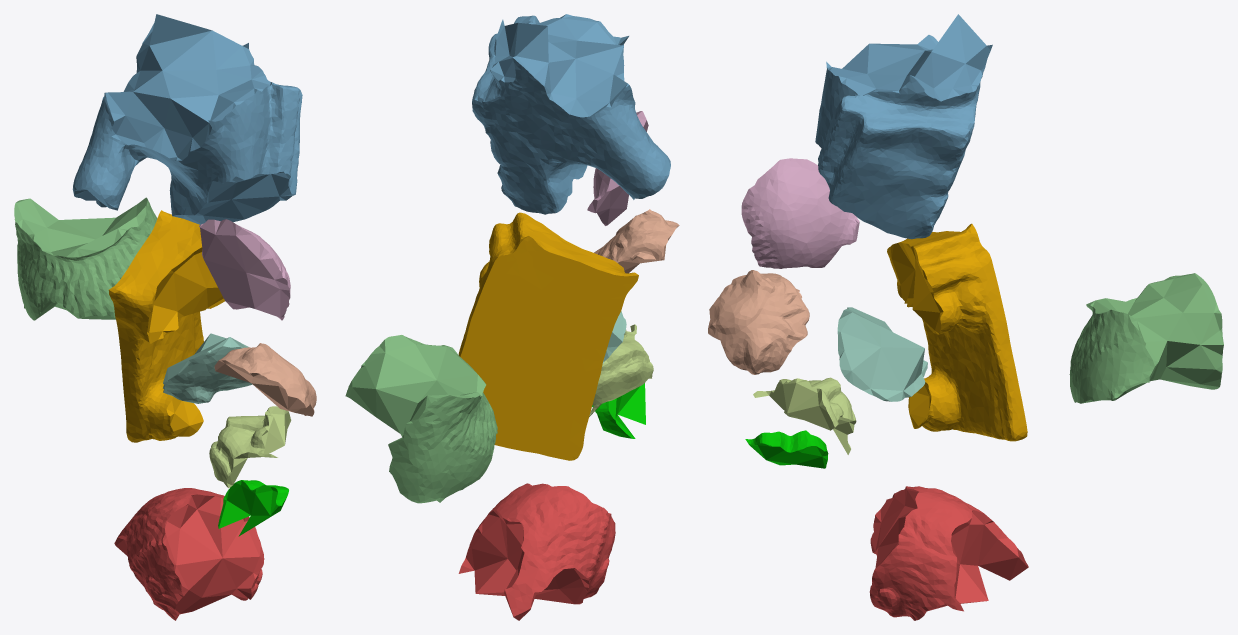
Rendered from mode_16_10pcs_transformed.glb.
3 views of the same model, side by side, from view 1: azimuth 30°, elevation 25°; view 2: azimuth 150°, elevation 25°; view 3: azimuth 270°, elevation 25° (orthographic).
Parts seen in each view (by area): view 1: piece_2.obj, piece_0.obj, piece_1.obj, piece_3.obj, piece_6.obj, piece_7.obj, piece_5.obj, piece_4.obj, piece_8.obj; view 2: piece_0.obj, piece_2.obj, piece_3.obj, piece_1.obj, piece_7.obj, piece_5.obj, piece_8.obj, piece_6.obj, piece_4.obj; view 3: piece_2.obj, piece_0.obj, piece_3.obj, piece_1.obj, piece_6.obj, piece_7.obj, piece_4.obj, piece_5.obj, piece_8.obj.
Part boxes in pixels (<box>): piece_2.obj: <box>72,14,302,224</box>; piece_0.obj: <box>108,210,224,442</box>; piece_1.obj: <box>114,488,264,620</box>; piece_3.obj: <box>14,197,157,320</box>; piece_6.obj: <box>199,219,290,320</box>; piece_7.obj: <box>214,343,316,416</box>; piece_5.obj: <box>209,406,291,488</box>; piece_4.obj: <box>163,333,252,403</box>; piece_8.obj: <box>218,480,288,536</box>; piece_0.obj: <box>458,212,638,460</box>; piece_2.obj: <box>472,14,670,214</box>; piece_3.obj: <box>345,335,497,503</box>; piece_1.obj: <box>458,483,615,620</box>; piece_7.obj: <box>594,209,679,273</box>; piece_5.obj: <box>589,324,653,416</box>; piece_8.obj: <box>592,383,645,438</box>; piece_6.obj: <box>587,111,648,225</box>; piece_4.obj: <box>602,311,626,363</box>; piece_2.obj: <box>815,14,992,239</box>; piece_0.obj: <box>887,223,1027,441</box>; piece_3.obj: <box>1069,273,1223,403</box>; piece_1.obj: <box>869,486,1028,620</box>; piece_6.obj: <box>741,158,859,268</box>; piece_7.obj: <box>708,270,809,374</box>; piece_4.obj: <box>837,307,927,401</box>; piece_5.obj: <box>753,377,856,454</box>; piece_8.obj: <box>745,430,828,468</box>.
Size of the model in its own units: 0.6529 by 1.74 by 1.4.
